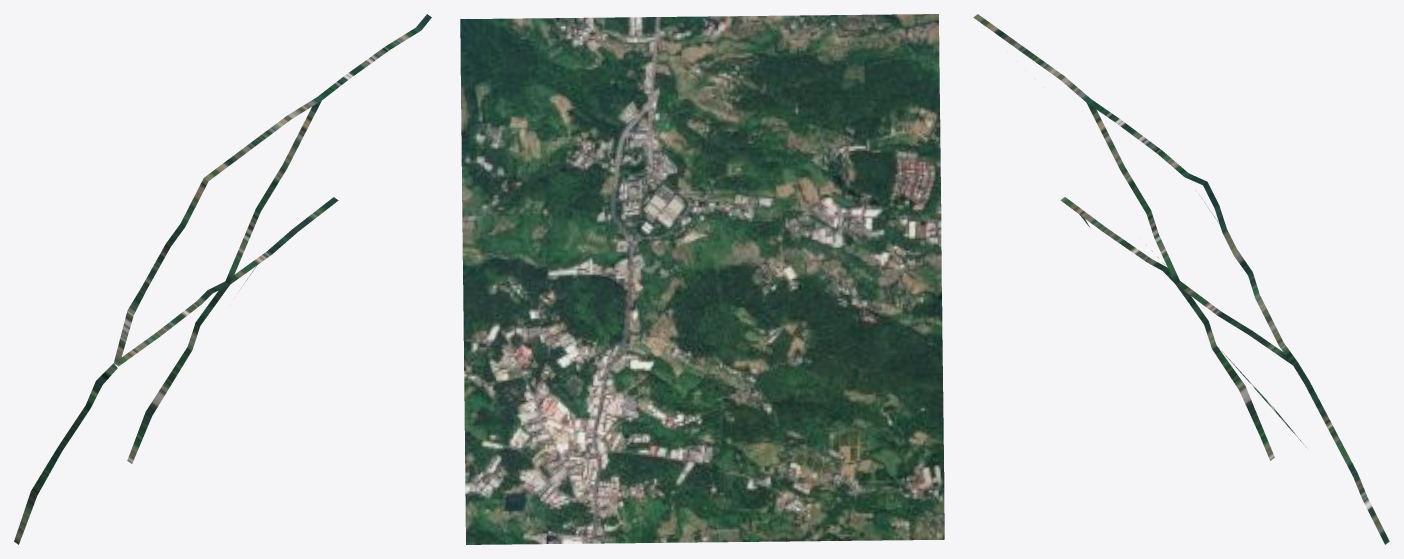
The picture shows the model from 3 angles, left to right: view 1: azimuth 30°, elevation 25°; view 2: azimuth 150°, elevation 25°; view 3: azimuth 270°, elevation 25°; orthographic projection. The views are drawn at different scales.
Bounding box in the file's own units: 2474 × 2229 × 2042.
Materials: 1 (1 with a texture image).
